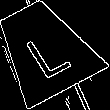L_NW: (16, 20, 73, 79)
